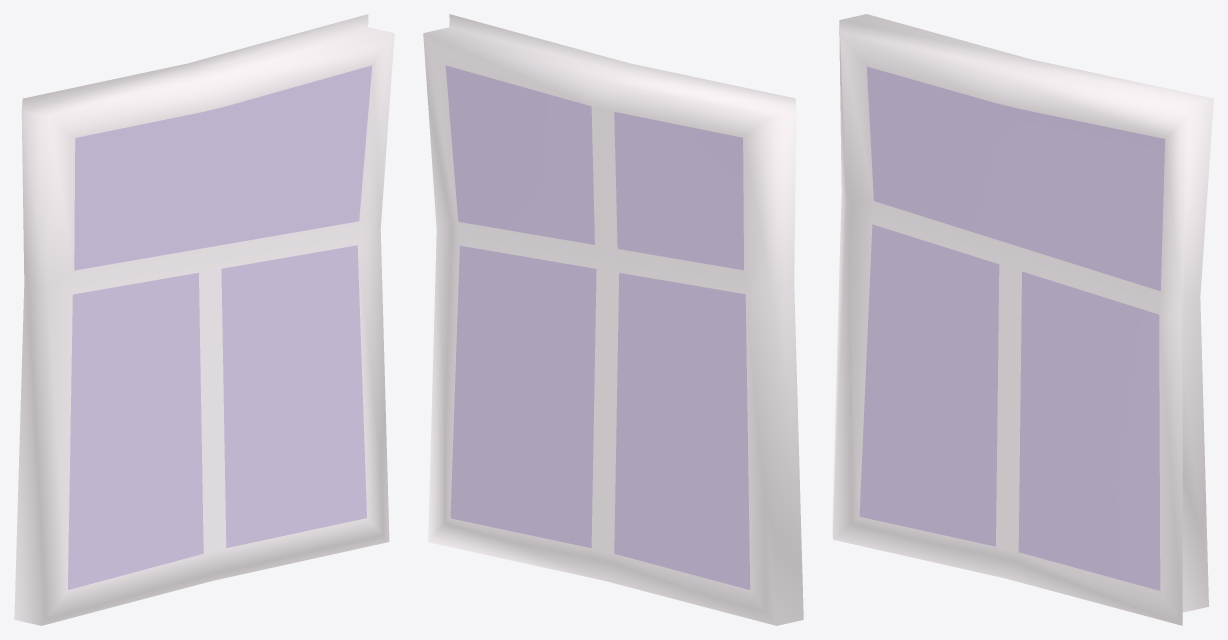
File: news.glb
3 views of the same model, side by side, from view 1: azimuth 30°, elevation 25°; view 2: azimuth 150°, elevation 25°; view 3: azimuth 330°, elevation 25° (orthographic).
Visible parts, largest first — view 1: Object_2; view 2: Object_2; view 3: Object_2.
Boxes of the visible parts, left/top/right/bottom form: Object_2: left=14, top=14, right=394, bottom=625; Object_2: left=423, top=14, right=803, bottom=625; Object_2: left=832, top=14, right=1213, bottom=625.
Bounding box in the file's own units: 0.6205 × 0.8196 × 0.0776.
1 material, 1 textured.
